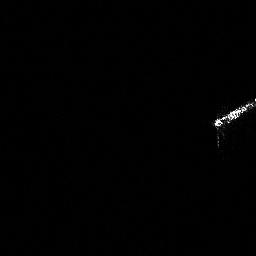ship: (212, 99, 256, 127)
